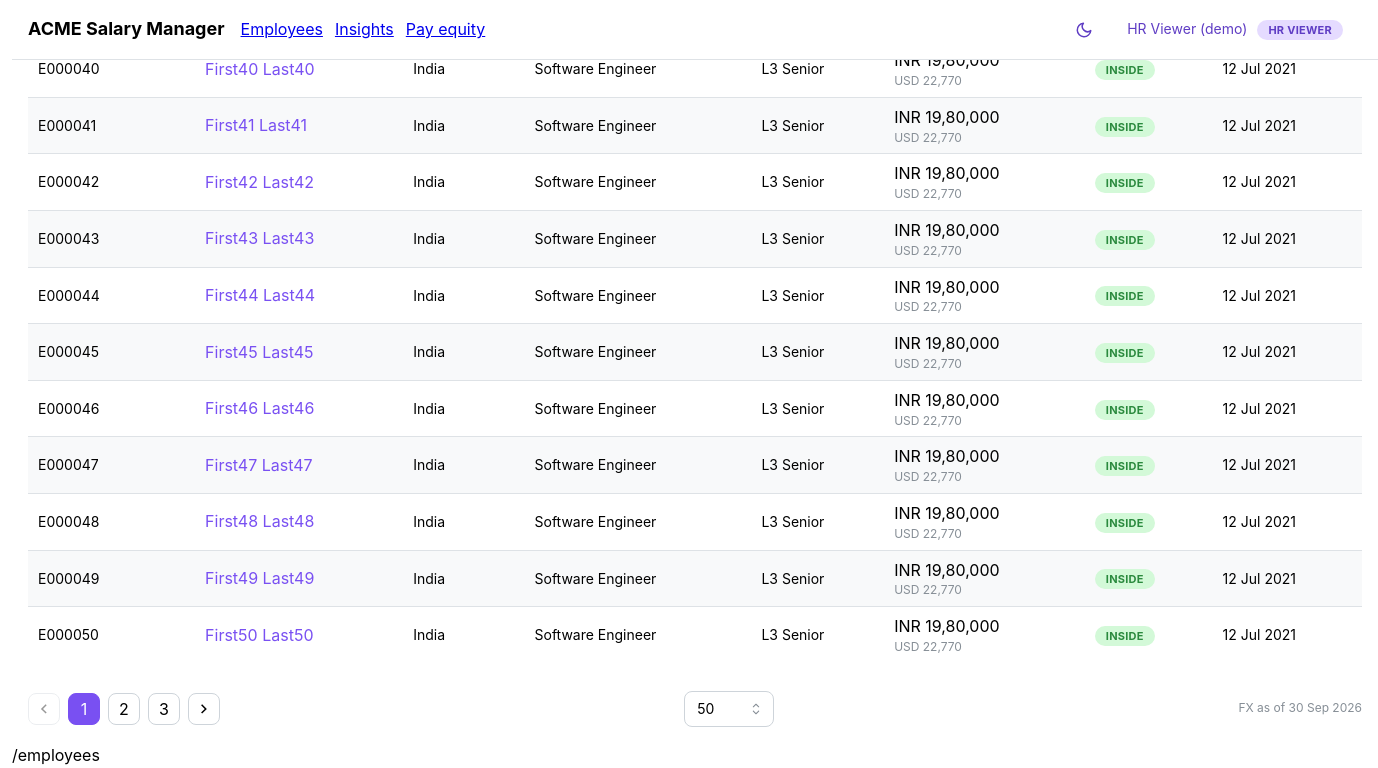
Test case: employee list page (04 section 8.5) › changing the page or page size updates the URL and requests that page
(page scrolled)
Expected: the text named "location" reads "/employees", [12,745,100,765]
Click the button "2": (124, 709) [108,693,140,725]
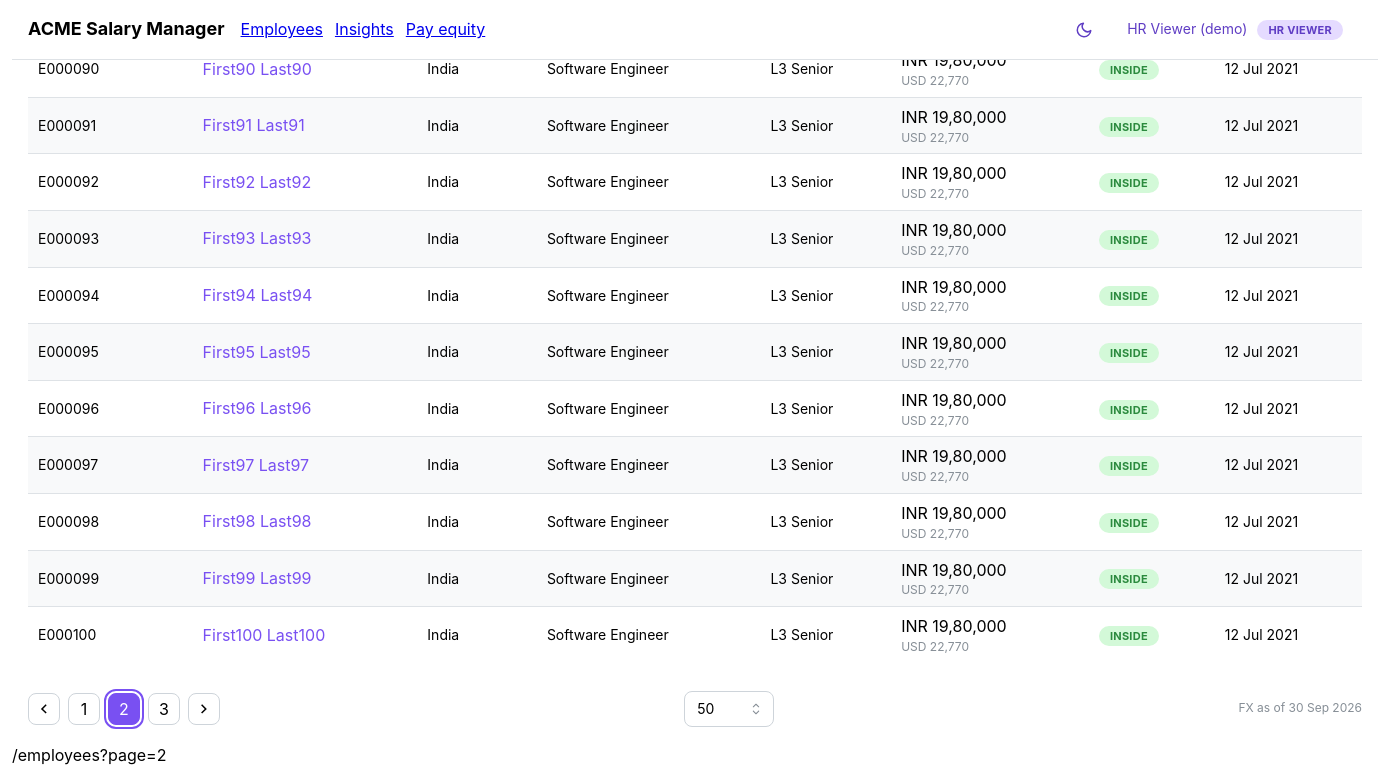
Expected: the text named "location" reads "/employees?page=2", [12,745,166,765]
Click the dropdown named "Page size": (729, 709) [684,691,774,727]
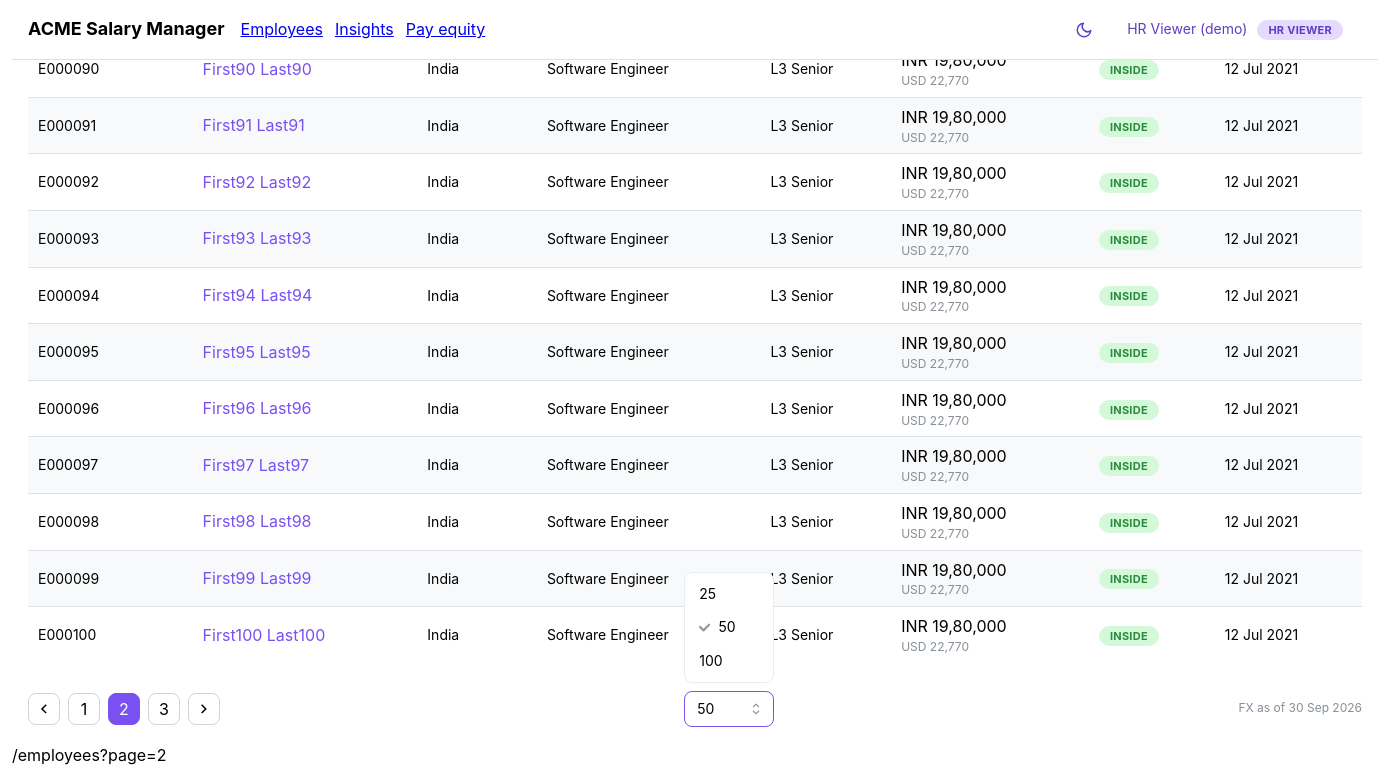
Click the option "25": (708, 593) [699,585,716,602]
(page scrolled)
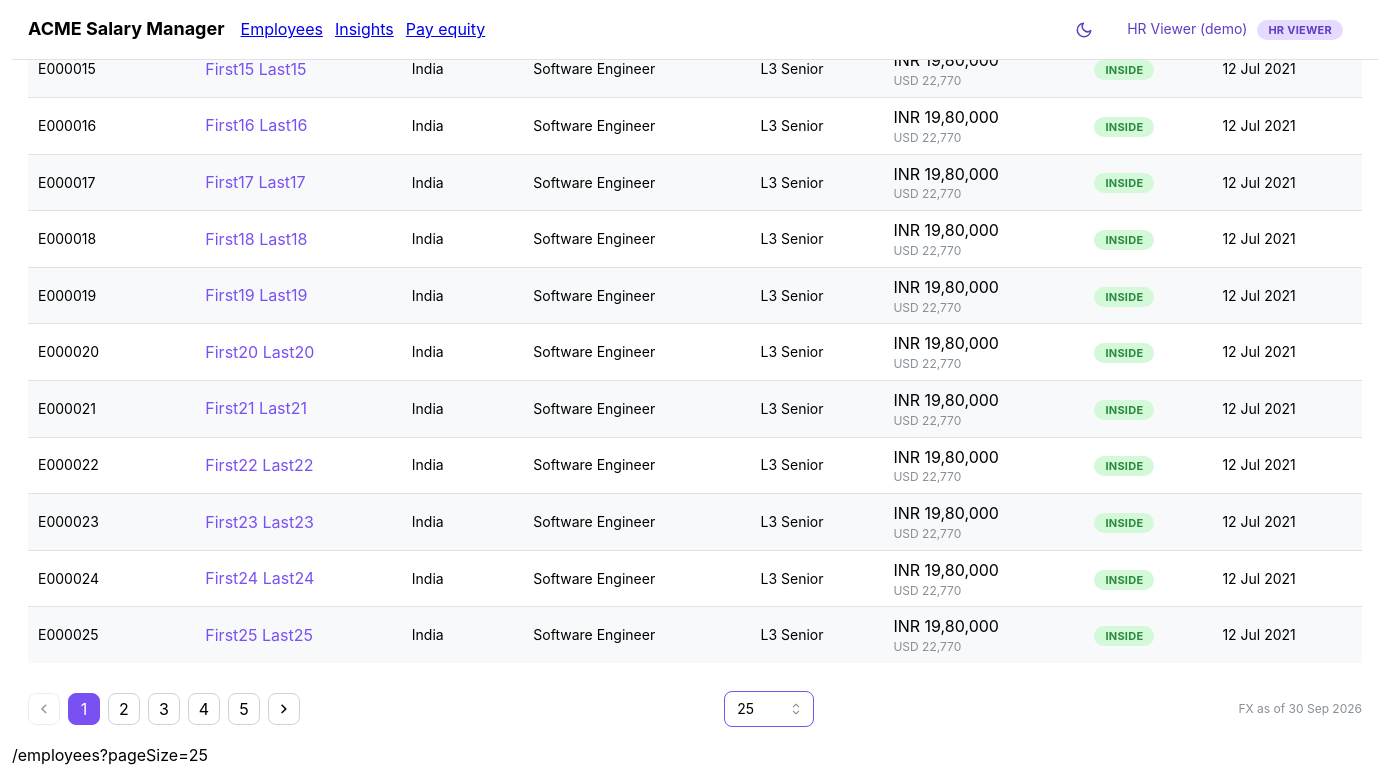
Expected: the text named "location" reads "/employees?pageSize=25", [12,745,208,765]
